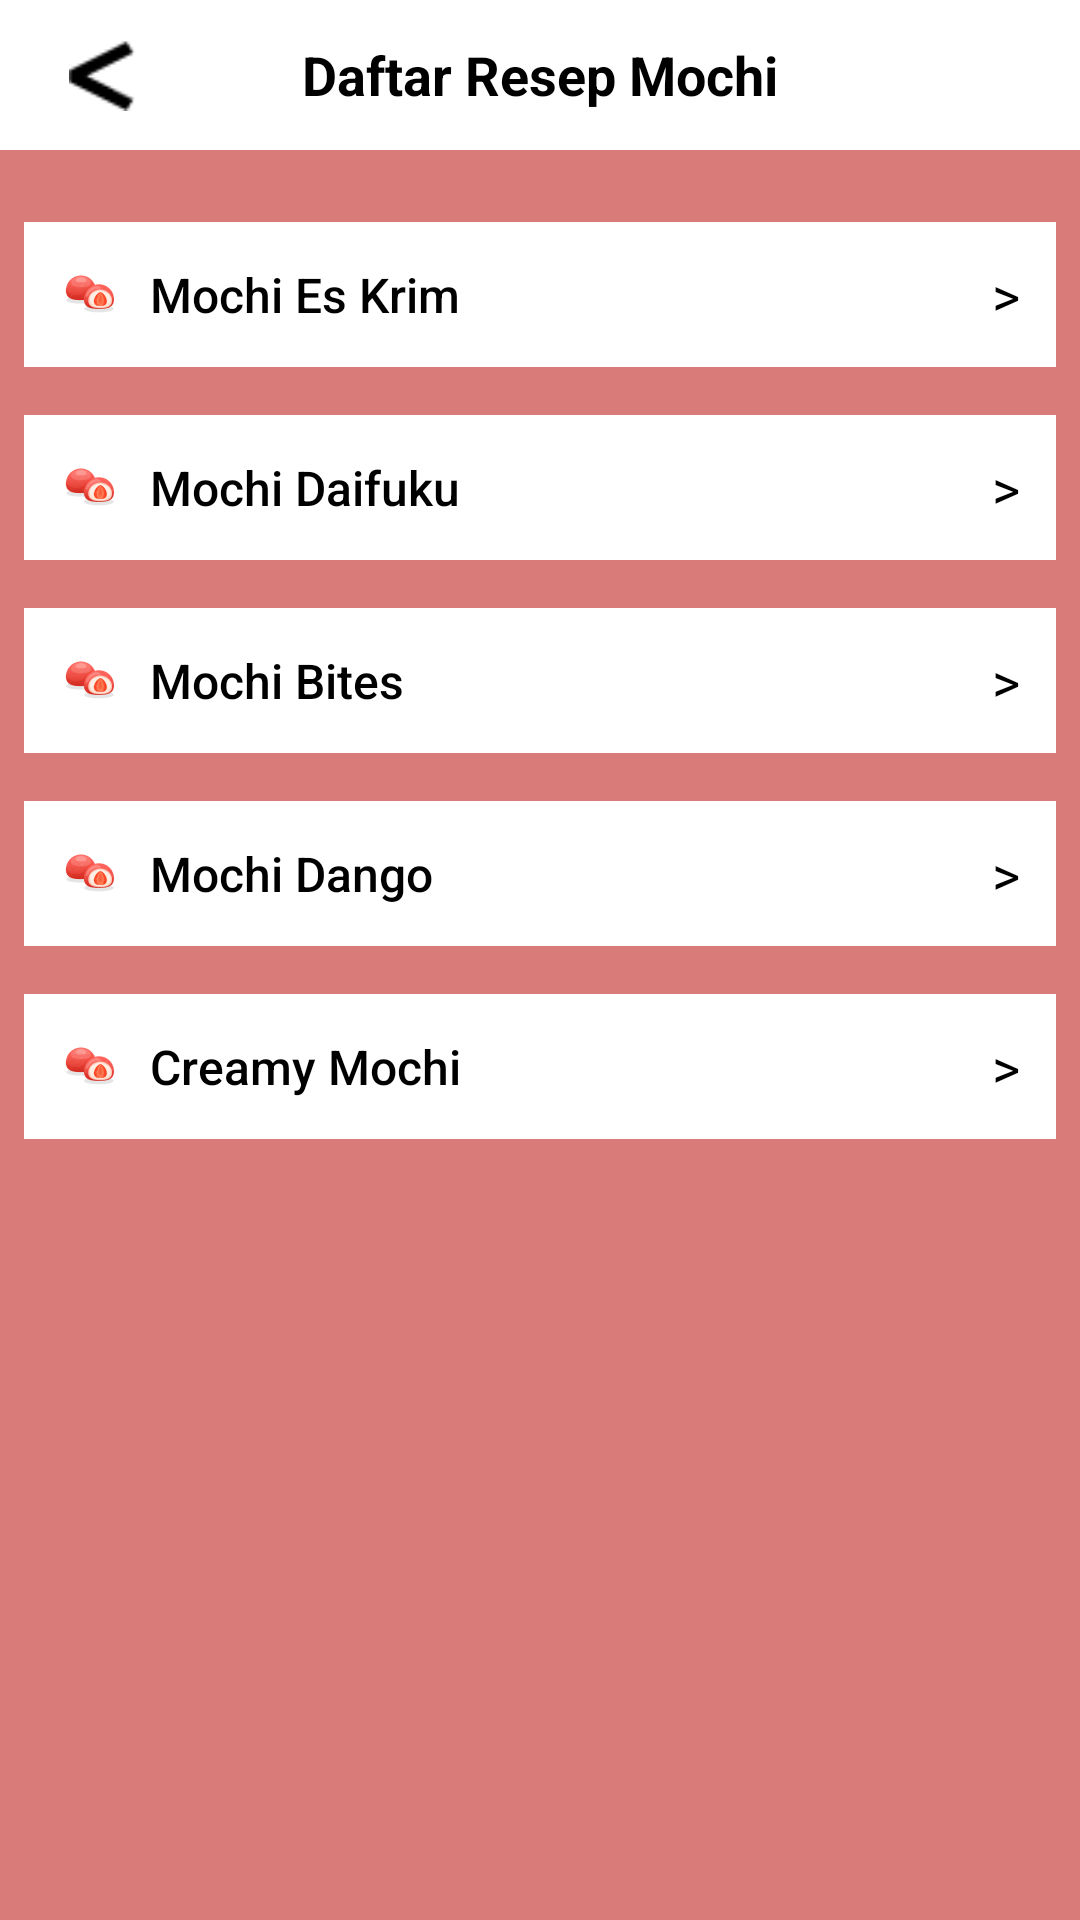

Where to tap for icons on this 1080 x 1920 app screen, as point (x, y):
Kembali: point (101, 76)
